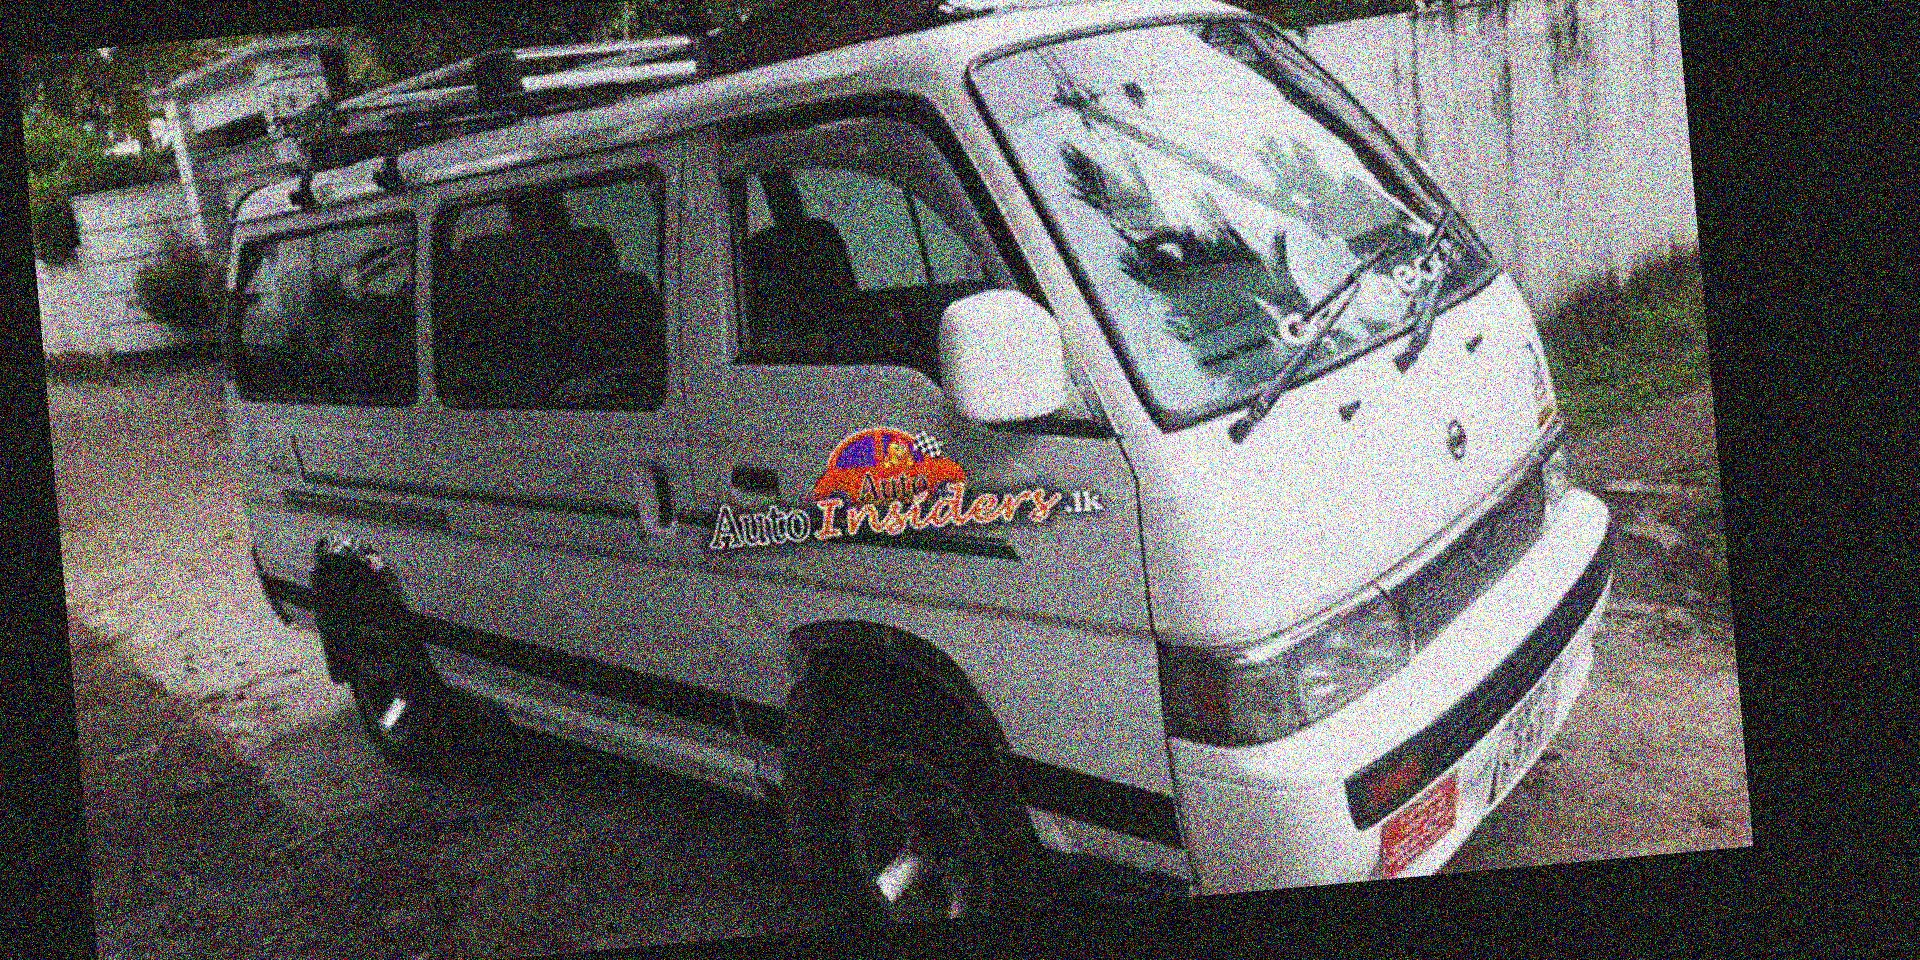van: (184, 0, 1647, 960)
